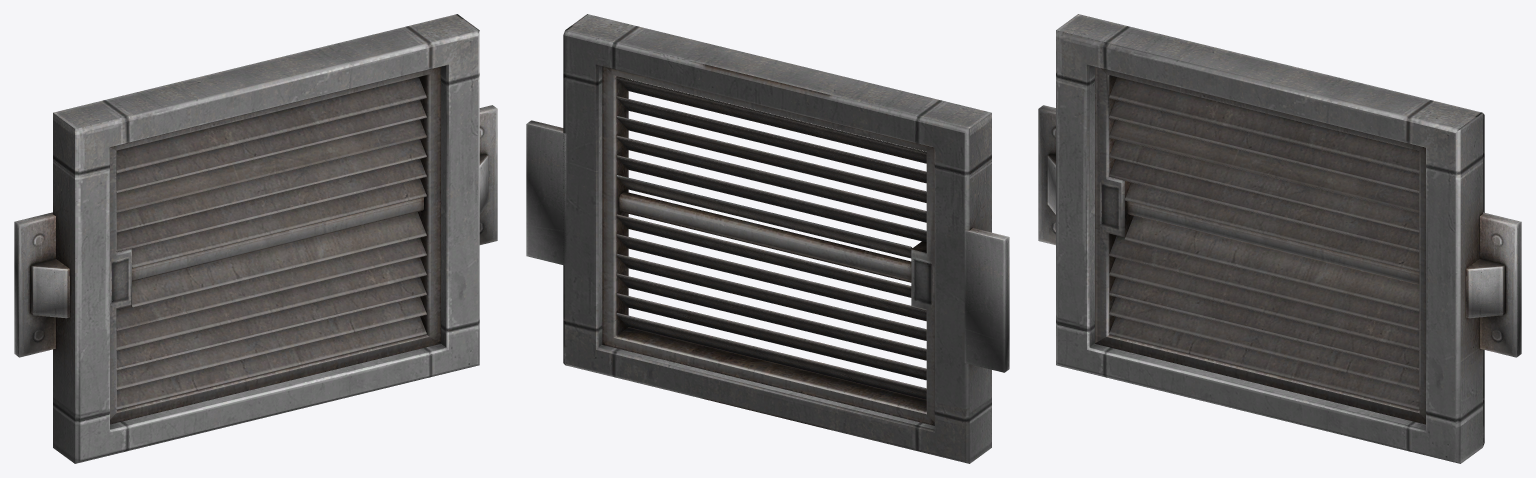
File: air_vent.dae
3 renders of one model, left to right at view 1: azimuth 30°, elevation 25°; view 2: azimuth 150°, elevation 25°; view 3: azimuth 330°, elevation 25°, orthographic.
Visible parts, largest first — view 1: door_hatch_slide_ventilation; view 2: door_hatch_slide_ventilation; view 3: door_hatch_slide_ventilation.
Part boxes in pixels (<box>): door_hatch_slide_ventilation: <box>14,14,497,463</box>; door_hatch_slide_ventilation: <box>526,14,1009,463</box>; door_hatch_slide_ventilation: <box>1038,14,1521,463</box>.
Size of the model in its own units: 1.77 by 1.19 by 0.166.
